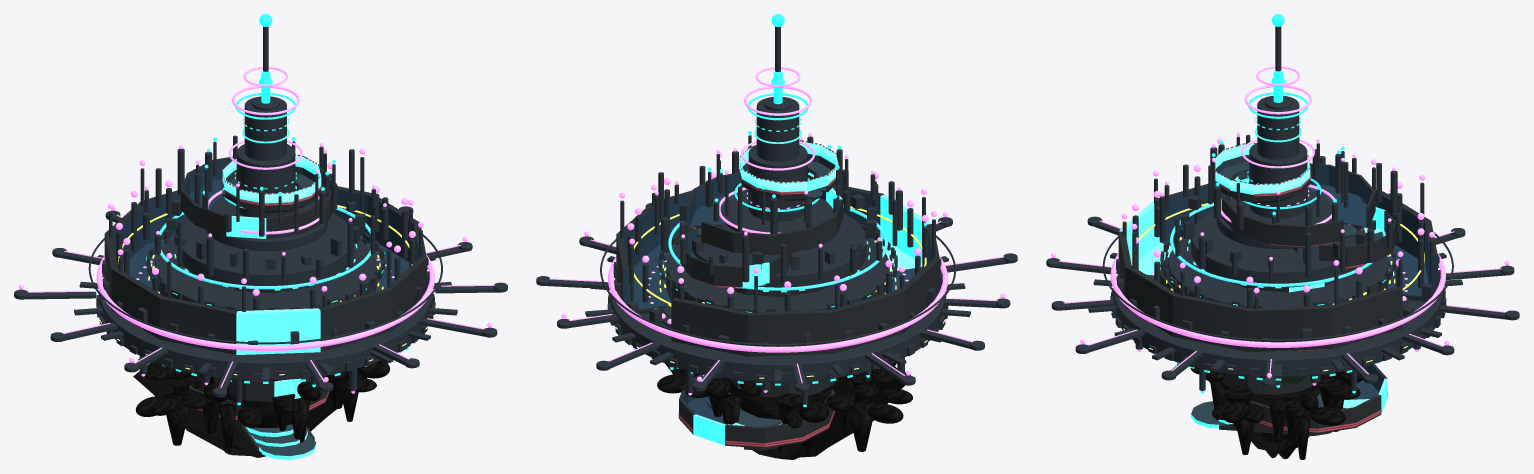
3 renders of one model, left to right at view 1: azimuth 30°, elevation 25°; view 2: azimuth 150°, elevation 25°; view 3: azimuth 270°, elevation 25°, orthographic.
Visible parts, largest first — view 1: AI_PM_core_magenta_ring_asset_Aero_Station_PinkRing_Art, AI_PM_core_station_Aero_Station_01_Art, AI_PM_core_primary_round_deck, AI_PM_core_upper_habitat_band, AI_PM_core_mid_habitat_band, AI_PM_core_city_rock_shell, AI_PM_core_outer_magenta_runway, AI_PM_core_reference_tower_lower_core, AI_PM_core_reference_tower_upper_core, AI_PM_core_observation_deck, AI_PM_core_outer_dark_guardrail, AI_PM_core_mid_blue_runway (+6 smaller); view 2: AI_PM_core_magenta_ring_asset_Aero_Station_PinkRing_Art, AI_PM_core_station_Aero_Station_01_Art, AI_PM_core_primary_round_deck, AI_PM_core_mid_habitat_band, AI_PM_core_upper_habitat_band, AI_PM_core_outer_magenta_runway, AI_PM_core_reference_tower_lower_core, AI_PM_core_reference_tower_upper_core, AI_PM_core_city_rock_shell, AI_PM_core_reference_tower_foundation_disk, AI_PM_core_outer_dark_guardrail, AI_PM_core_compact_underbody (+7 smaller); view 3: AI_PM_core_magenta_ring_asset_Aero_Station_PinkRing_Art, AI_PM_core_station_Aero_Station_01_Art, AI_PM_core_primary_round_deck, AI_PM_core_upper_habitat_band, AI_PM_core_mid_habitat_band, AI_PM_core_outer_magenta_runway, AI_PM_core_reference_tower_lower_core, AI_PM_core_reference_tower_upper_core, AI_PM_core_outer_dark_guardrail, AI_PM_core_reference_tower_foundation_disk, AI_PM_core_mid_blue_runway, AI_PM_core_compact_underbody (+4 smaller).
Part boxes in pixels (bbox=[...]): AI_PM_core_magenta_ring_asset_Aero_Station_PinkRing_Art: bbox=[104, 186, 426, 354]; AI_PM_core_station_Aero_Station_01_Art: bbox=[180, 154, 333, 459]; AI_PM_core_primary_round_deck: bbox=[99, 277, 432, 379]; AI_PM_core_upper_habitat_band: bbox=[182, 213, 353, 290]; AI_PM_core_mid_habitat_band: bbox=[155, 238, 376, 310]; AI_PM_core_city_rock_shell: bbox=[133, 360, 381, 457]; AI_PM_core_outer_magenta_runway: bbox=[96, 254, 435, 350]; AI_PM_core_reference_tower_lower_core: bbox=[236, 144, 295, 217]; AI_PM_core_reference_tower_upper_core: bbox=[244, 96, 286, 160]; AI_PM_core_observation_deck: bbox=[205, 221, 327, 250]; AI_PM_core_outer_dark_guardrail: bbox=[88, 234, 442, 344]; AI_PM_core_mid_blue_runway: bbox=[159, 206, 371, 289]; AI_PM_core_magenta_ring_asset_Aero_Station_PinkRing_Art: bbox=[616, 185, 939, 356]; AI_PM_core_station_Aero_Station_01_Art: bbox=[678, 140, 842, 450]; AI_PM_core_primary_round_deck: bbox=[611, 278, 945, 381]; AI_PM_core_mid_habitat_band: bbox=[666, 238, 889, 312]; AI_PM_core_upper_habitat_band: bbox=[691, 213, 866, 291]; AI_PM_core_outer_magenta_runway: bbox=[608, 256, 948, 352]; AI_PM_core_reference_tower_lower_core: bbox=[748, 144, 807, 221]; AI_PM_core_reference_tower_upper_core: bbox=[756, 97, 799, 161]; AI_PM_core_city_rock_shell: bbox=[665, 362, 910, 459]; AI_PM_core_reference_tower_foundation_disk: bbox=[722, 192, 833, 232]; AI_PM_core_outer_dark_guardrail: bbox=[600, 235, 955, 345]; AI_PM_core_compact_underbody: bbox=[722, 378, 835, 446]; AI_PM_core_magenta_ring_asset_Aero_Station_PinkRing_Art: bbox=[1118, 184, 1437, 351]; AI_PM_core_station_Aero_Station_01_Art: bbox=[1160, 143, 1396, 435]; AI_PM_core_primary_round_deck: bbox=[1113, 274, 1443, 376]; AI_PM_core_upper_habitat_band: bbox=[1191, 211, 1364, 287]; AI_PM_core_mid_habitat_band: bbox=[1168, 238, 1388, 307]; AI_PM_core_outer_magenta_runway: bbox=[1110, 252, 1445, 347]; AI_PM_core_reference_tower_lower_core: bbox=[1249, 143, 1307, 218]; AI_PM_core_reference_tower_upper_core: bbox=[1257, 95, 1299, 159]; AI_PM_core_outer_dark_guardrail: bbox=[1102, 232, 1453, 341]; AI_PM_core_reference_tower_foundation_disk: bbox=[1229, 190, 1331, 225]; AI_PM_core_mid_blue_runway: bbox=[1170, 202, 1385, 286]; AI_PM_core_compact_underbody: bbox=[1220, 373, 1332, 441].
Bounding box in the file's own units: 2.91 × 2.98 × 2.93.
Materials: 21 (8 with a texture image).
